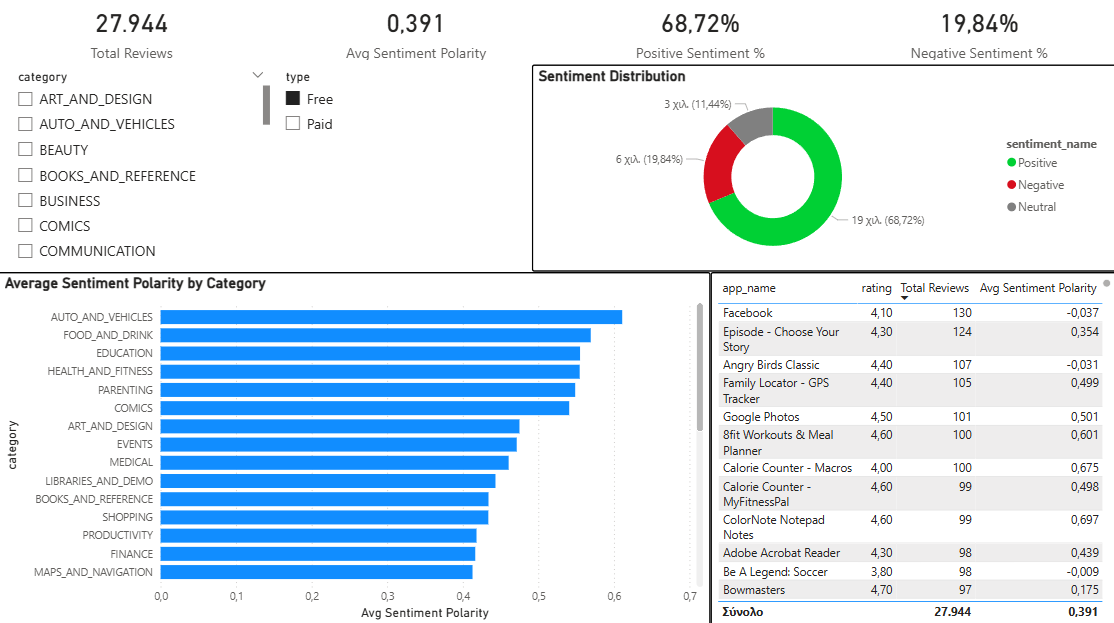

This screenshot's page, from the dashboard's own definition file:
{"tool":"powerbi","page":{"name":"Executive Overview","canvas":[1280,720],"ordinal":0},"visuals":[{"type":"card","fields":{"Values":["_Measures.Total Reviews"]},"box":[0,0,305.7,77.1],"z":0},{"type":"card","fields":{"Values":["_Measures.Avg Sentiment Polarity"]},"box":[315.7,0,324.3,77.1],"z":1000},{"type":"card","fields":{"Values":["_Measures.Positive Sentiment %"]},"box":[642.9,0,320,77.1],"z":2000},{"type":"card","fields":{"Values":["_Measures.Negative Sentiment %"]},"box":[962.9,0,317.1,77.1],"z":3000},{"type":"slicer","fields":{"Values":["playstore_dw dim_apps.category"]},"box":[10,77.1,305.7,237.1],"z":4000},{"type":"donutChart","title":"Sentiment Distribution","fields":{"Category":["playstore_dw dim_sentiment_types.sentiment_name"],"Y":["_Measures.Total Reviews"]},"box":[610,77.1,670,237.1],"z":5000},{"type":"barChart","title":"Average Sentiment Polarity by Category","fields":{"Category":["playstore_dw dim_apps.category"],"Y":["_Measures.Avg Sentiment Polarity"]},"box":[0,314.3,814.3,405.7],"z":6000},{"type":"tableEx","fields":{"Values":["playstore_dw dim_apps.app_name","playstore_dw dim_apps.rating","_Measures.Total Reviews","_Measures.Avg Sentiment Polarity"]},"box":[814.3,314.3,465.7,405.7],"z":7000},{"type":"slicer","fields":{"Values":["playstore_dw dim_apps.type"]},"box":[315.7,77.1,294.3,237.1],"z":8000}]}

Visuals, with their boxes in screenshot pixels (x1, y1, x2, y2), scaled from the page's 1280x720 canvas onto the 1114x623 screenshot:
card - _Measures.Total Reviews: <box>0,0,266,67</box>
card - _Measures.Avg Sentiment Polarity: <box>275,0,557,67</box>
card - _Measures.Positive Sentiment %: <box>560,0,838,67</box>
card - _Measures.Negative Sentiment %: <box>838,0,1113,67</box>
slicer - playstore_dw dim_apps.category: <box>9,67,275,272</box>
"Sentiment Distribution" donutChart: <box>531,67,1113,272</box>
"Average Sentiment Polarity by Category" barChart: <box>0,272,709,622</box>
tableEx - playstore_dw dim_apps.app_name x playstore_dw dim_apps.rating: <box>709,272,1113,622</box>
slicer - playstore_dw dim_apps.type: <box>275,67,531,272</box>
